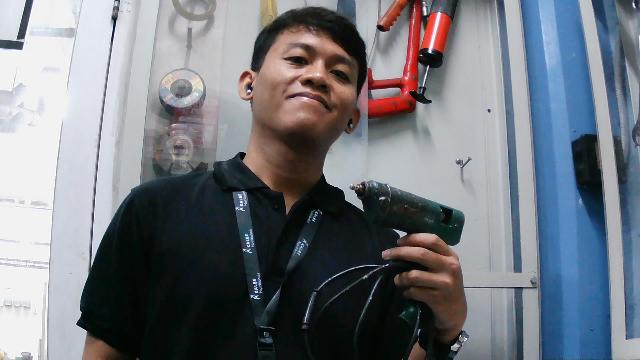gun_lem: (344, 167, 471, 340)
